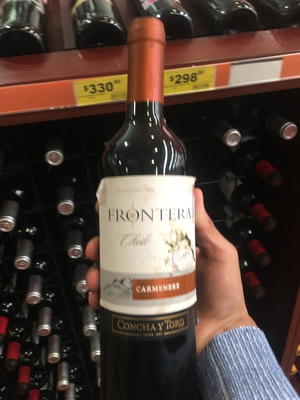frontera carmenere: (89, 15, 248, 400)
